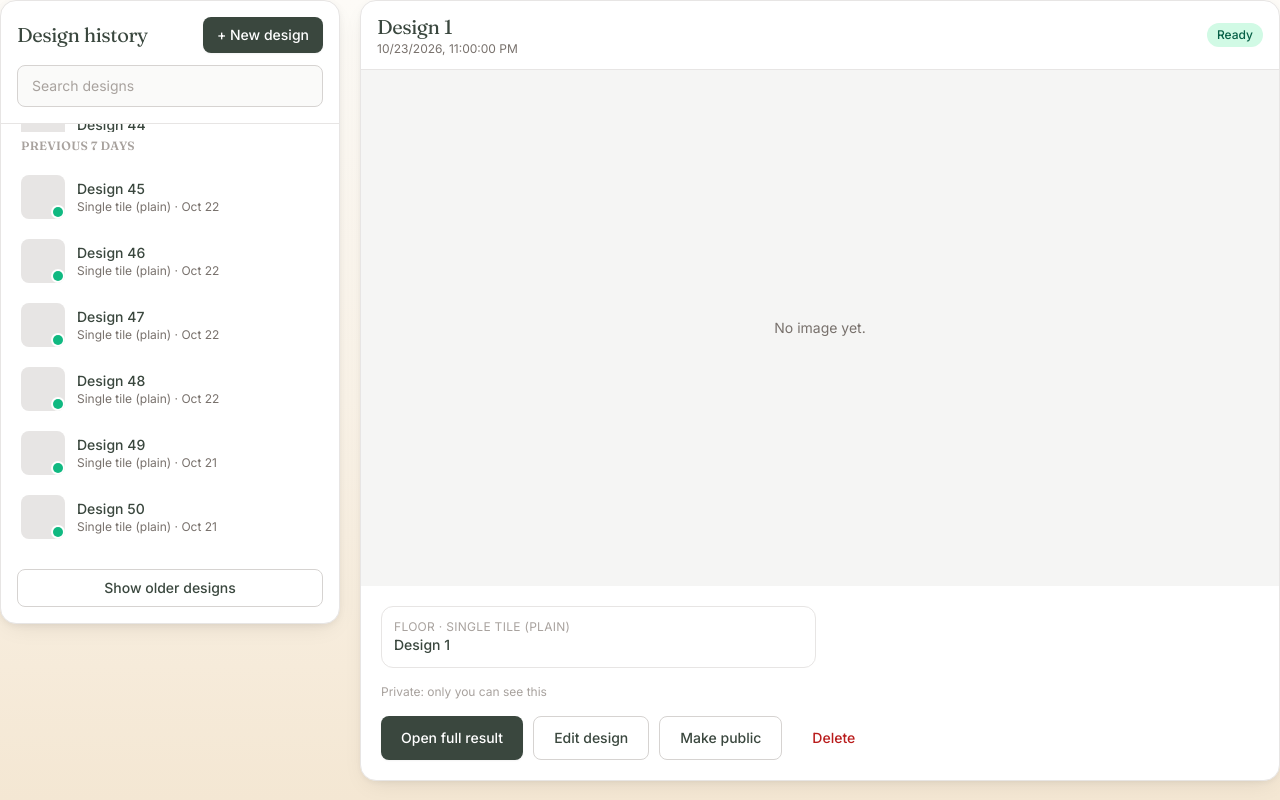
Scenario: design history › history no longer stops at 50: older designs load below
This screenshot has width=1280, height=800.
(page scrolled)
Click the button "Show older designs" at (170, 588), box [17,569,323,607]
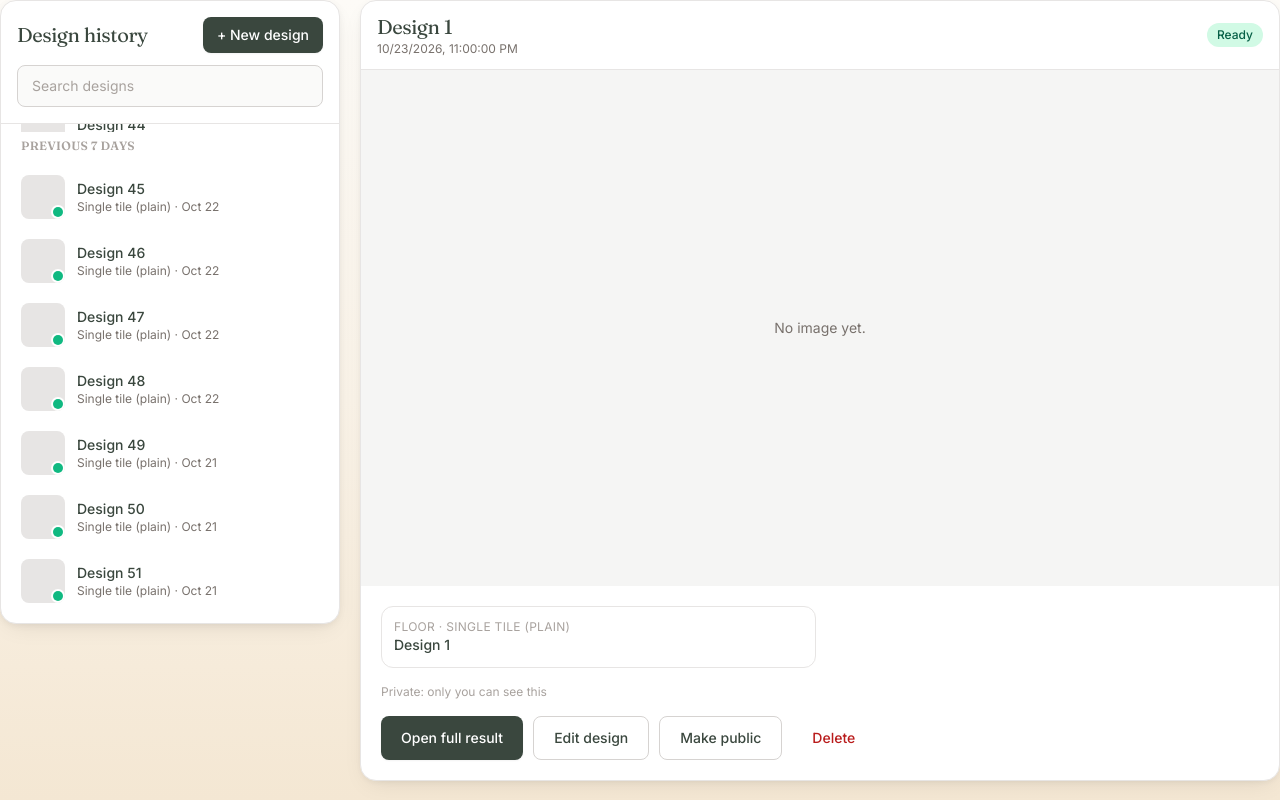
Result: the button "Show older designs" is gone
